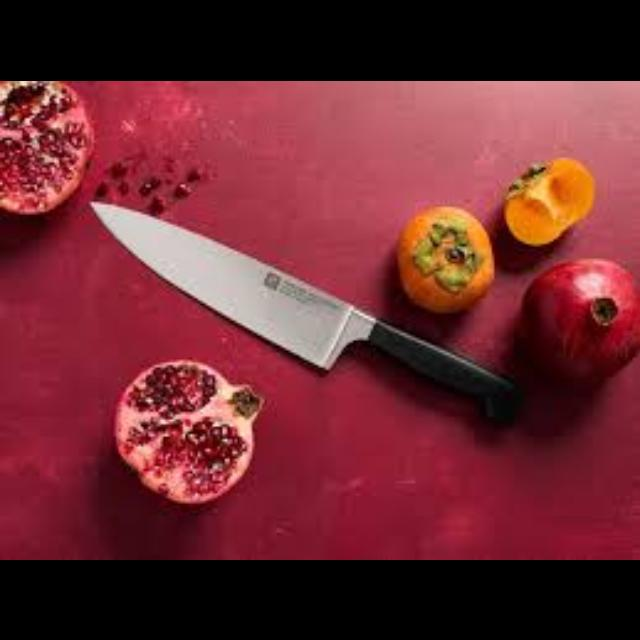knife: (87, 197, 516, 421)
